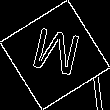M_S: (27, 25, 83, 85)
